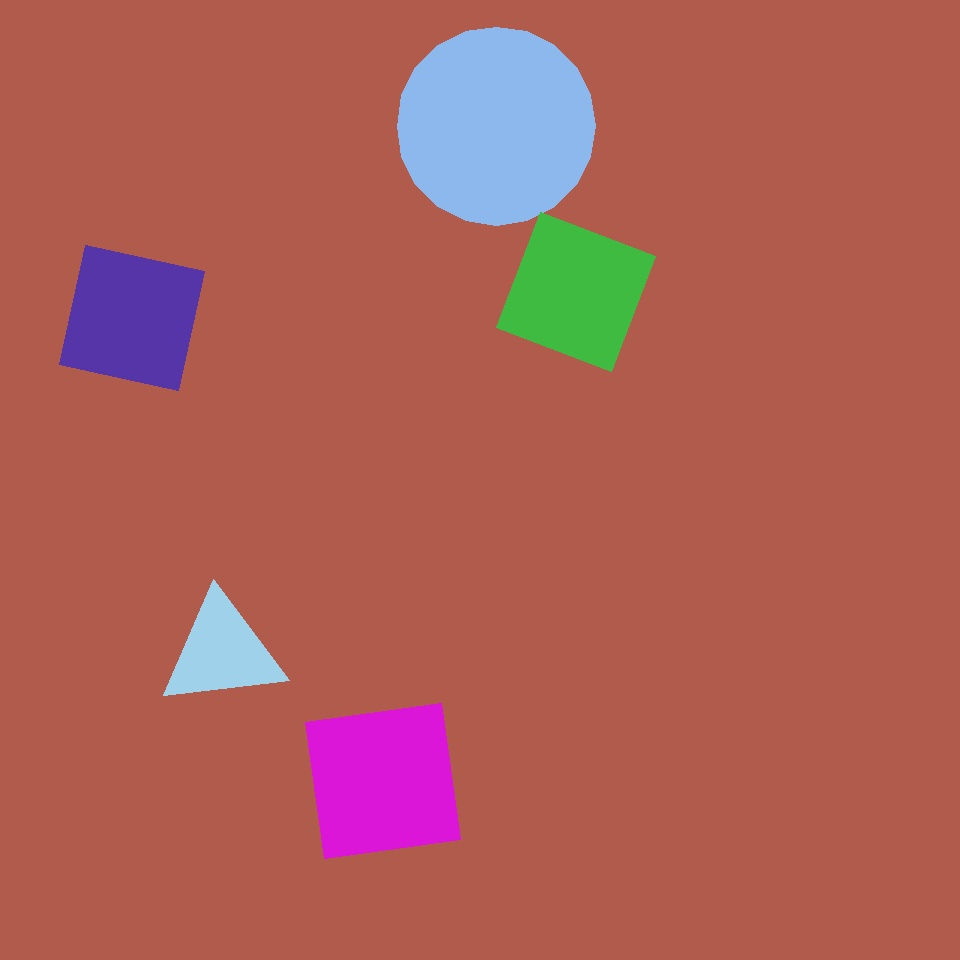circle: (322, 580, 608, 829), (159, 594, 285, 710)
square: (366, 34, 613, 281), (458, 454, 667, 663), (496, 212, 655, 372), (306, 704, 461, 858), (60, 246, 204, 390)
triangle: (496, 327, 744, 575), (397, 27, 595, 225), (26, 600, 201, 775)
